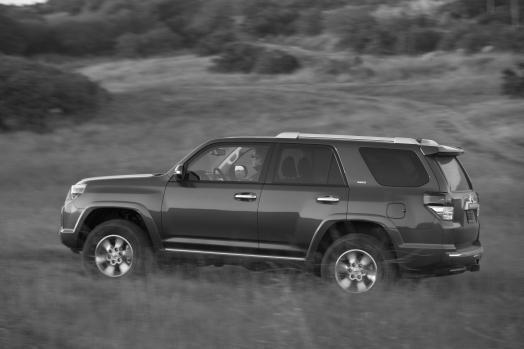car: (59, 133, 486, 319)
